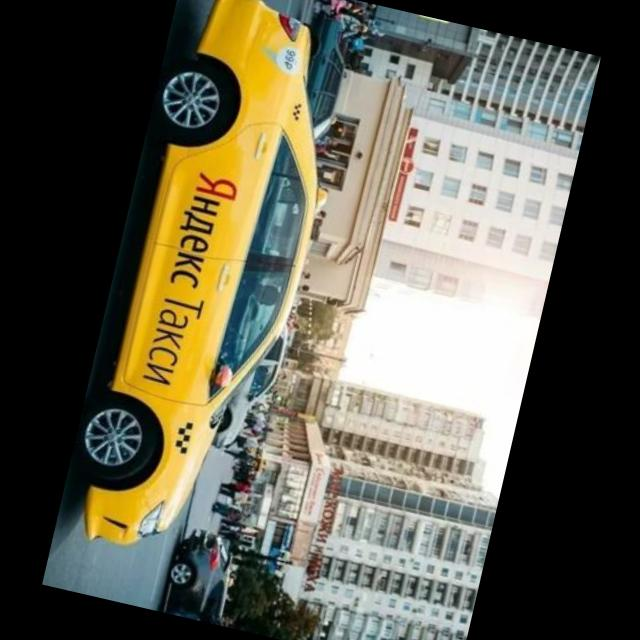taxi: (53, 1, 365, 574)
